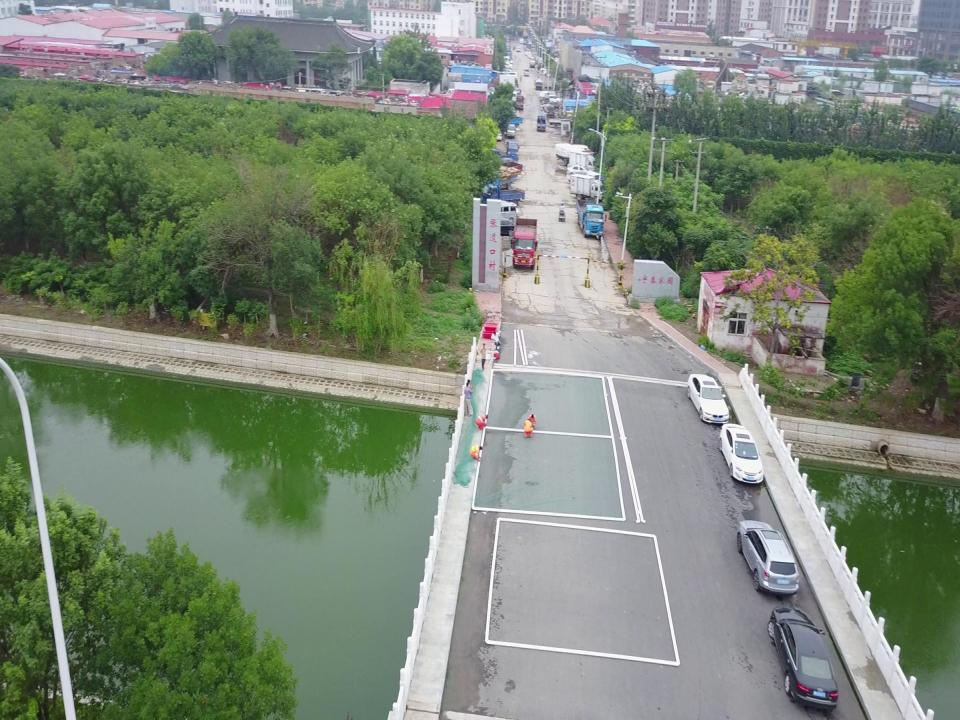car: (768, 606, 838, 713), (736, 520, 798, 594), (720, 422, 764, 486), (686, 373, 730, 427), (491, 127, 502, 140), (524, 68, 530, 77), (516, 48, 521, 53)
truck: (475, 162, 525, 196), (477, 167, 518, 198), (479, 181, 525, 208), (512, 219, 537, 268), (576, 199, 604, 240), (569, 174, 606, 204), (555, 142, 595, 166), (484, 148, 518, 173), (568, 150, 598, 174), (493, 112, 523, 131), (549, 113, 577, 128), (506, 138, 518, 160), (515, 96, 525, 111), (537, 115, 546, 131)
van: (539, 90, 554, 100), (507, 125, 516, 139), (534, 81, 542, 90)
